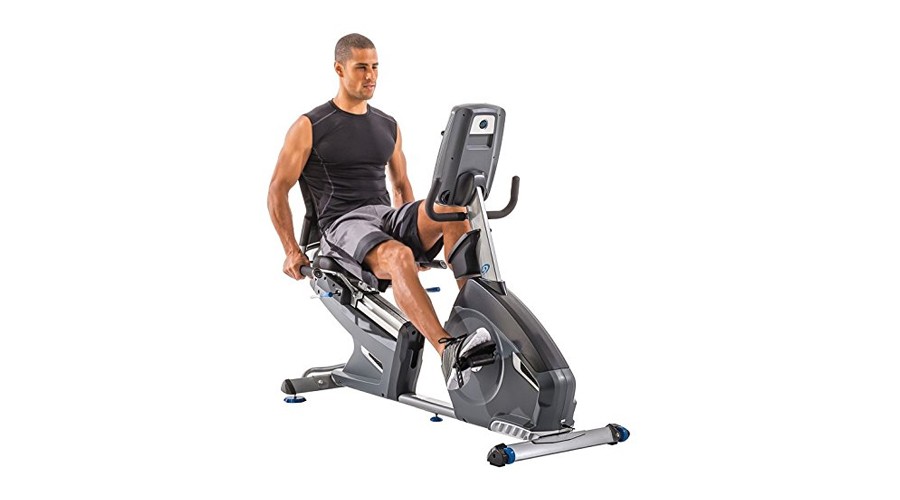gym_bike: (258, 76, 638, 474)
